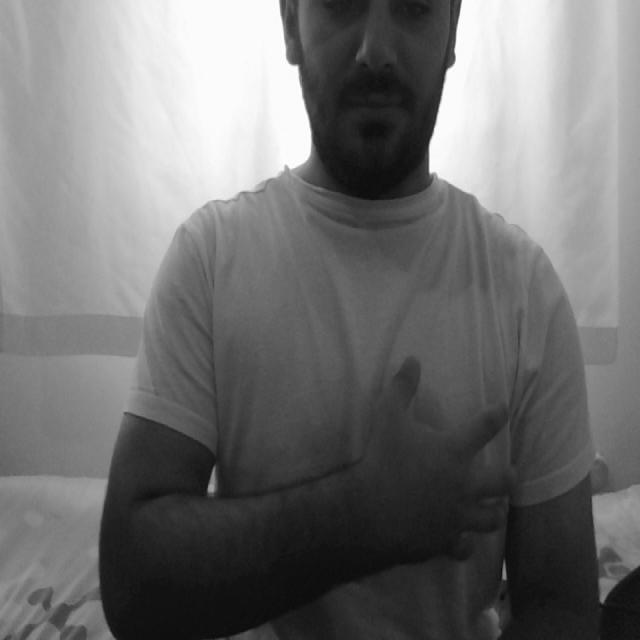Anne: (230, 355, 534, 584)
